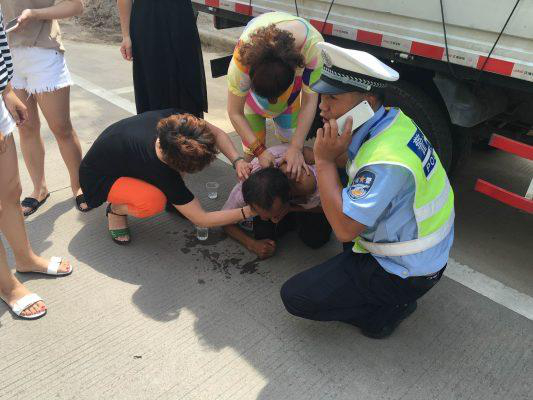fall: (213, 133, 335, 263)
